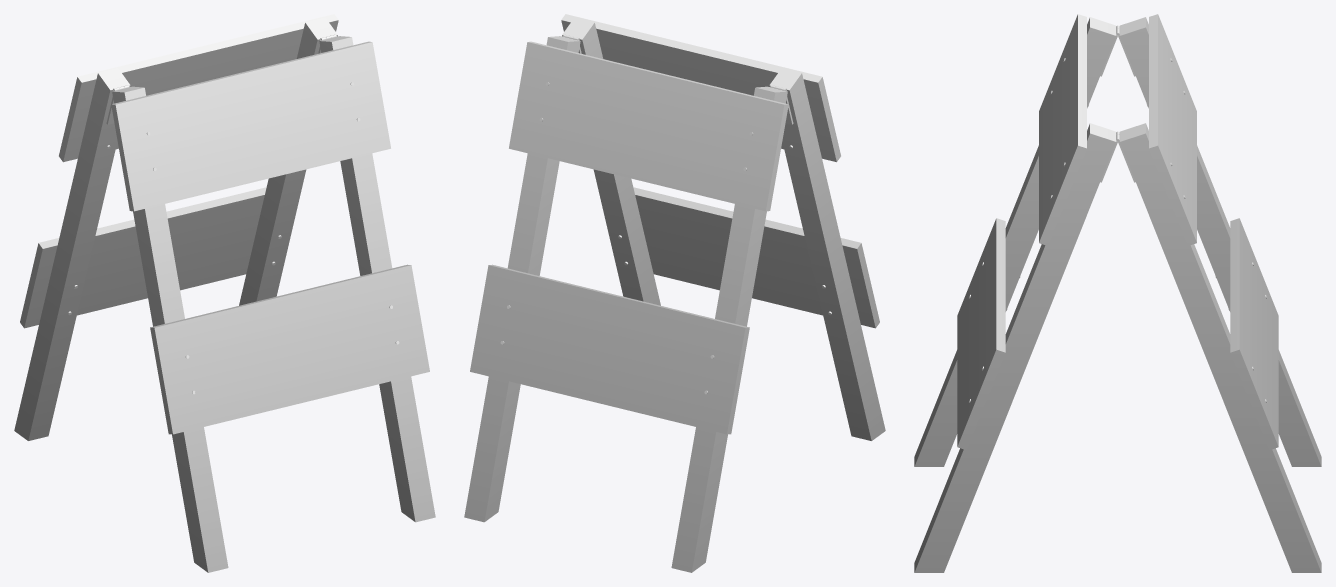
The model's file is simple_barricade_01_small.glb.
3 views of the same model, side by side, from view 1: azimuth 30°, elevation 25°; view 2: azimuth 150°, elevation 25°; view 3: azimuth 270°, elevation 25° (orthographic). The views are drawn at different scales.
Visible parts, largest first — view 1: simple_barricade_01_small; view 2: simple_barricade_01_small; view 3: simple_barricade_01_small.
Boxes of the visible parts, left/top/right/bottom form: simple_barricade_01_small: left=14, top=14, right=435, bottom=572; simple_barricade_01_small: left=464, top=14, right=885, bottom=572; simple_barricade_01_small: left=914, top=14, right=1321, bottom=572.
Size of the model in its own units: 0.635 by 0.9894 by 0.8304.
Materials: 1 (1 with a texture image).
